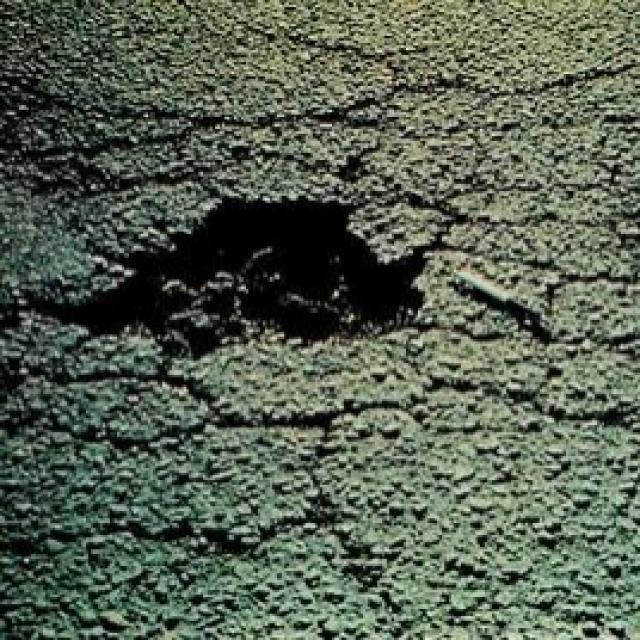pothole: (47, 172, 448, 426)
